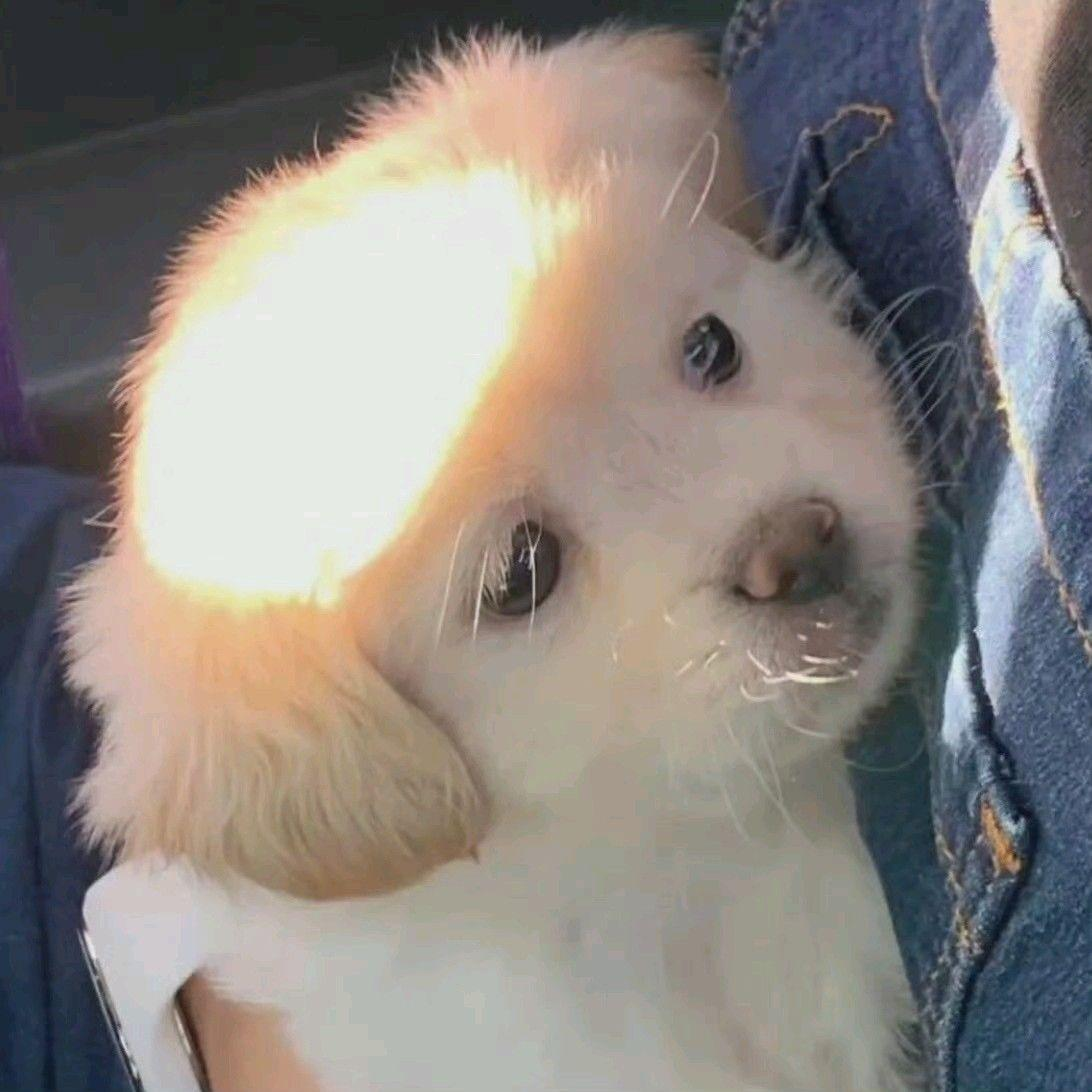puppy-dog: (54, 9, 958, 1092)
